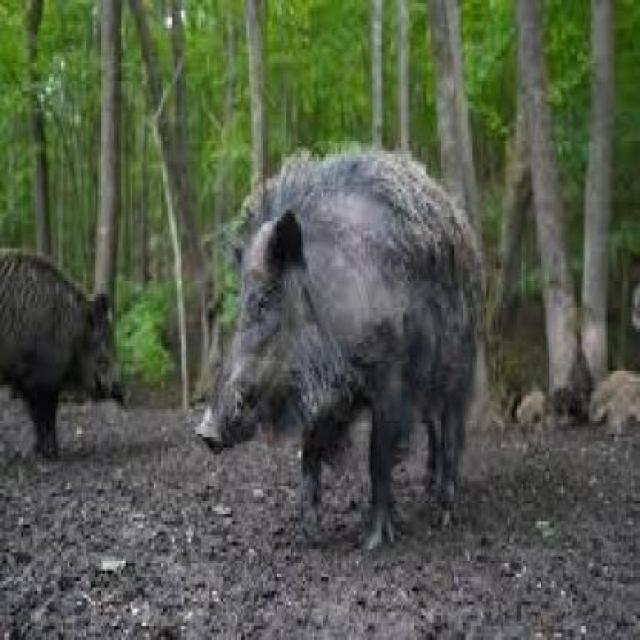wildboar: (192, 139, 490, 559), (0, 242, 128, 460)
